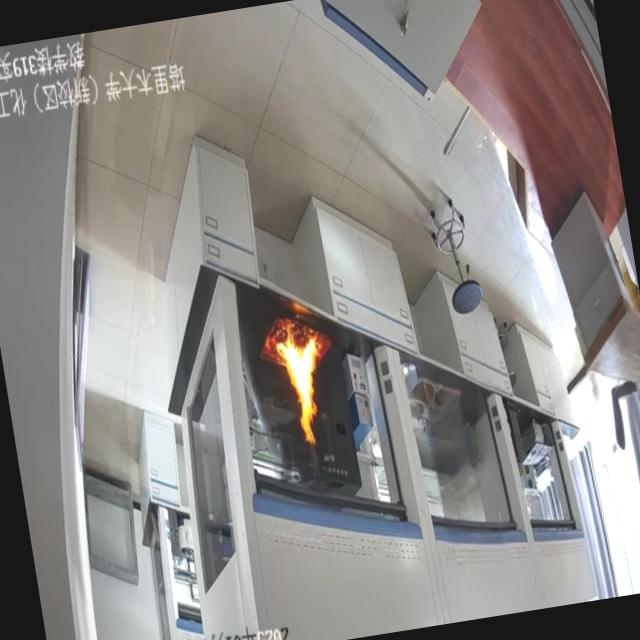fire: (264, 314, 347, 476)
